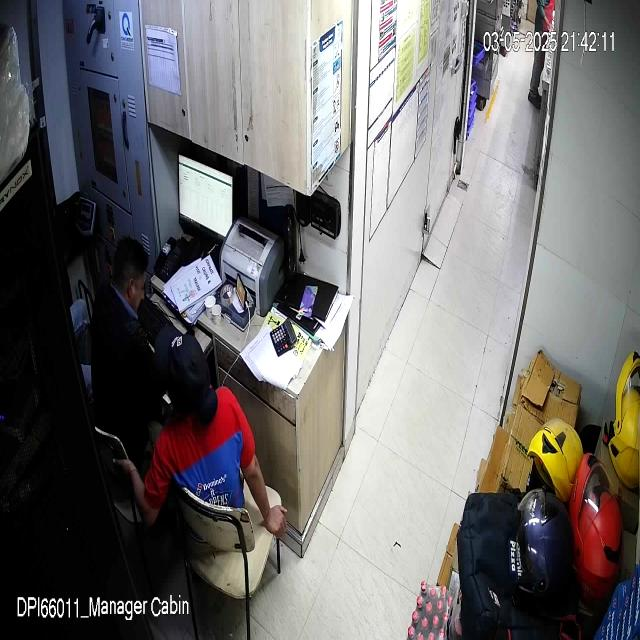helmet: (570, 451, 625, 603), (511, 489, 574, 608), (527, 418, 584, 500), (608, 352, 640, 489)
